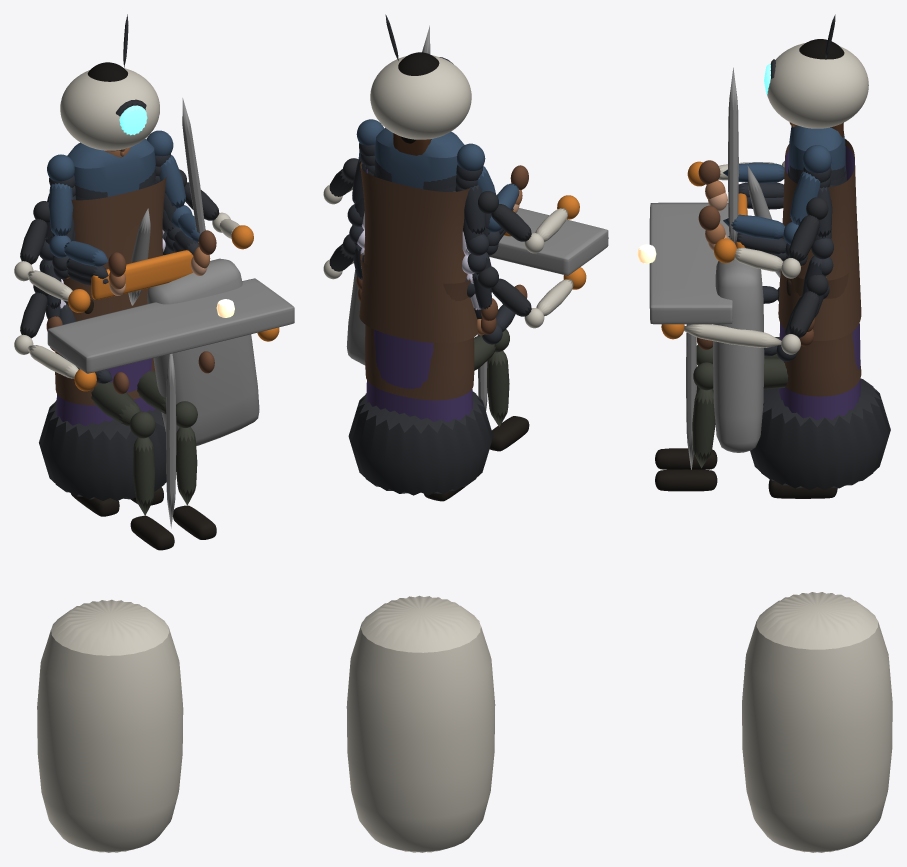
3 views of the same model, side by side, from view 1: azimuth 30°, elevation 25°; view 2: azimuth 150°, elevation 25°; view 3: azimuth 270°, elevation 25° (orthographic). The views are drawn at different scales.
Parts seen in each view (by area): view 1: kix, band_keys, band_bass, oduya, mags_seated, mags, juno, band_sax; view 2: kix, mags, mags_seated, oduya, juno, band_keys, band_bass, band_sax; view 3: kix, band_keys, band_bass, mags_seated, oduya, mags, juno, band_sax.
Boxes of the visible parts, x1,y1,x2,y2 form: kix: (14,14,279,852); band_keys: (47,166,294,528); band_bass: (39,98,259,445); oduya: (47,62,216,516); mags_seated: (55,290,216,550); mags: (39,148,166,351); juno: (56,147,165,504); band_sax: (53,176,206,305); kix: (323,14,586,852); mags: (349,162,496,343); mags_seated: (360,253,529,451); oduya: (356,52,528,501); juno: (357,136,484,498); band_keys: (360,153,608,410); band_bass: (346,25,497,365); band_sax: (365,133,519,255); kix: (637,14,892,852); band_keys: (649,175,844,469); band_bass: (713,67,845,452); mags_seated: (655,273,861,491); oduya: (698,39,845,498); mags: (778,139,861,346); juno: (779,122,860,420); band_sax: (708,123,847,277).
Bounding box in the file's own units: 0.976 × 3.55 × 0.9741.
